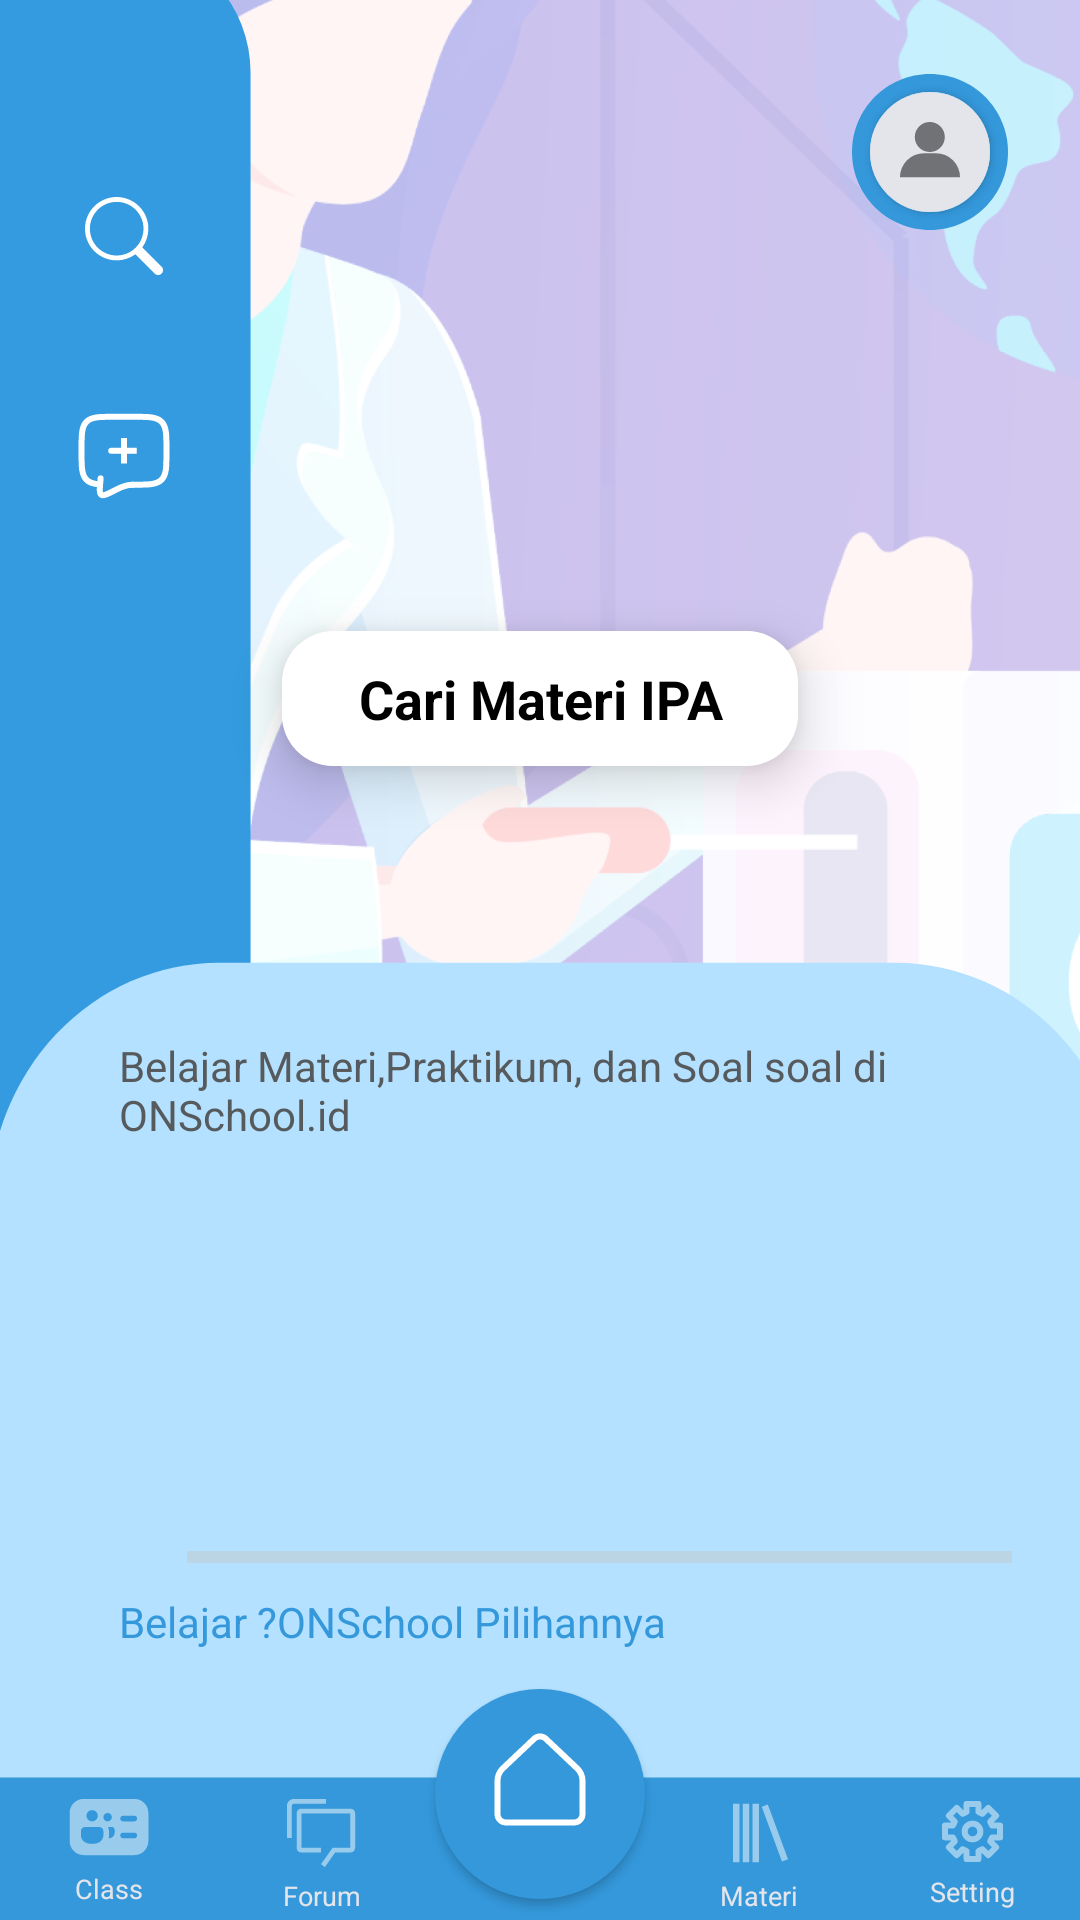

Point at icon controls on the screen. Image size 1080 x 1920, points as (x,y).
home round: (540,1794)
